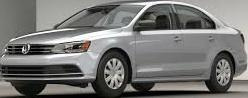Cars: (1, 2, 248, 98)
